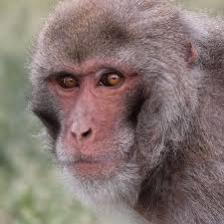monkey: (20, 0, 223, 223)
